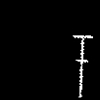double_crochet: (74, 36, 92, 96)
